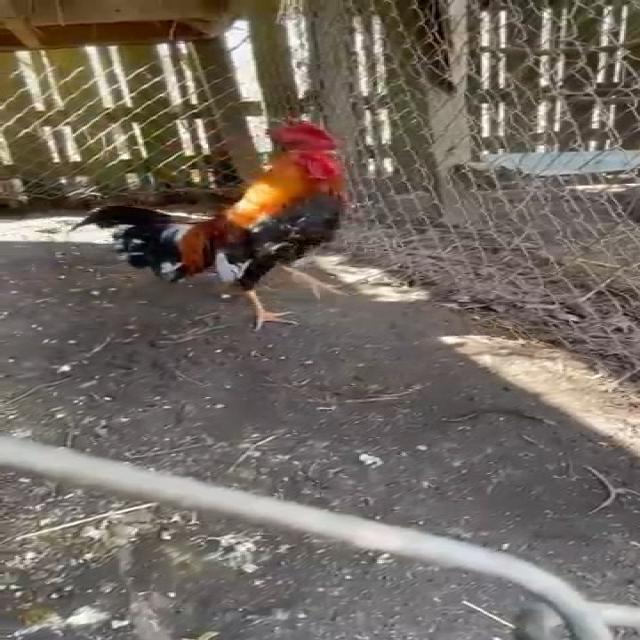walking: (82, 120, 366, 332)
